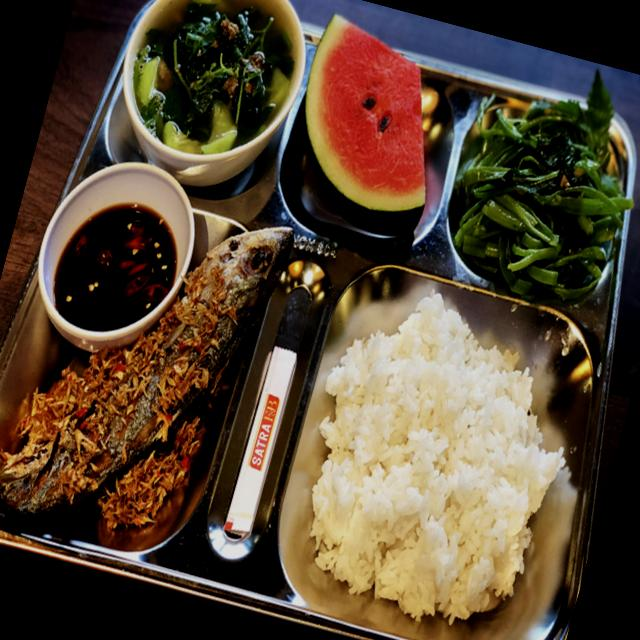ca kho: (0, 228, 292, 516)
canh cai: (124, 0, 301, 155)
com: (309, 294, 563, 623)
dua hau: (305, 14, 424, 210)
nuoc tuong: (53, 207, 176, 330)
rau muong: (454, 102, 632, 302)
